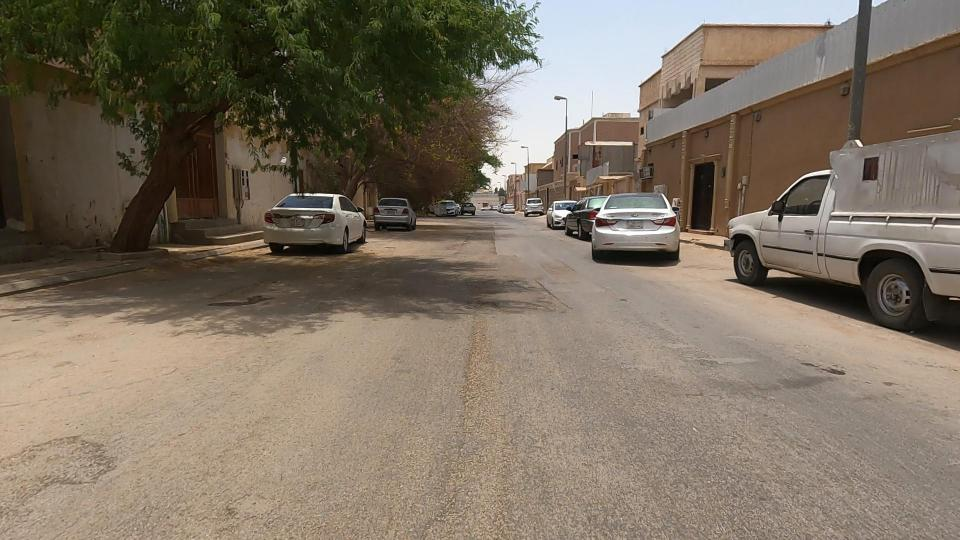POTHOLES: (426, 255, 521, 434)
